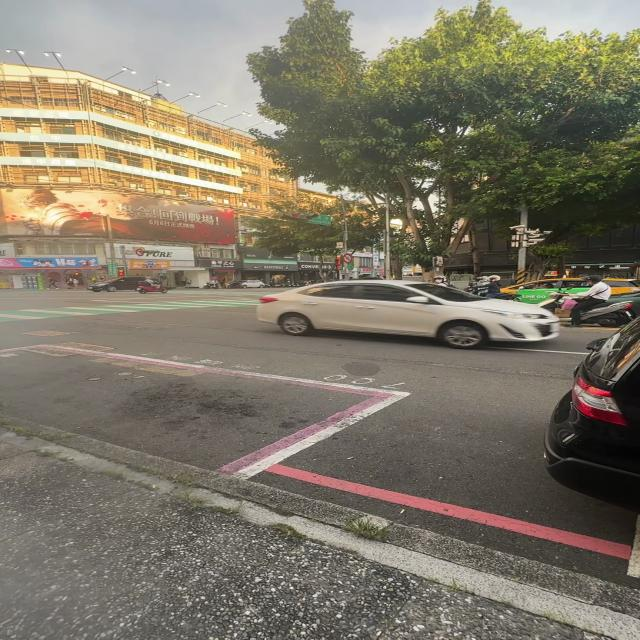car: (256, 279, 560, 348), (545, 320, 640, 510), (501, 278, 589, 304), (88, 276, 145, 292), (604, 279, 638, 294)
crosswalk: (0, 298, 258, 323), (167, 291, 283, 297)
motocycle: (580, 301, 635, 328), (536, 292, 567, 310), (137, 285, 168, 294)
